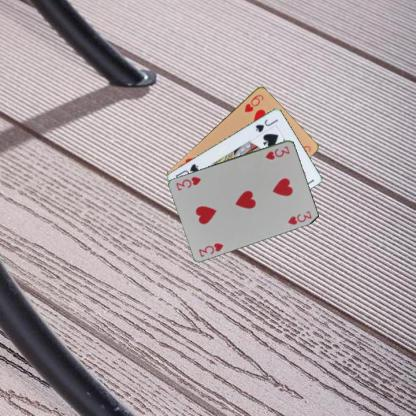3h: (196, 240, 225, 258), (263, 143, 291, 161)
6h: (242, 92, 265, 114)
Js: (253, 116, 280, 134)
